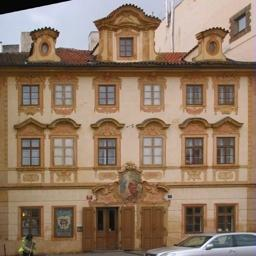building: (0, 0, 256, 250)
